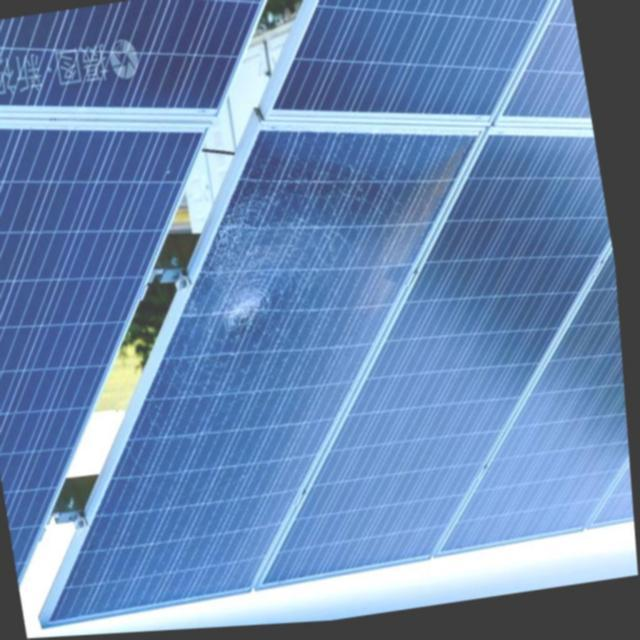cracked: (62, 133, 390, 622)
